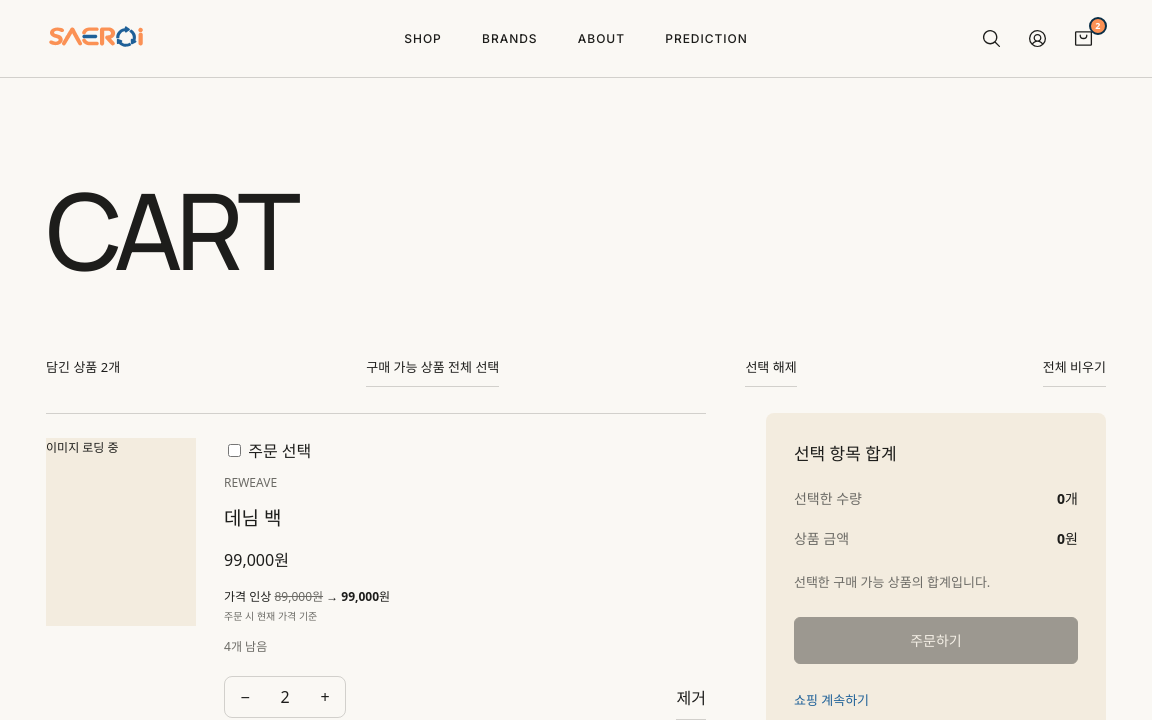
consumer cart › keeps unavailable DISCONTINUED items and trusts server totals (3, 판매 종료)
The image size is (1152, 720).
Click the checkbox named "데님 백 주문 선택": (235, 451) [228,444,241,458]
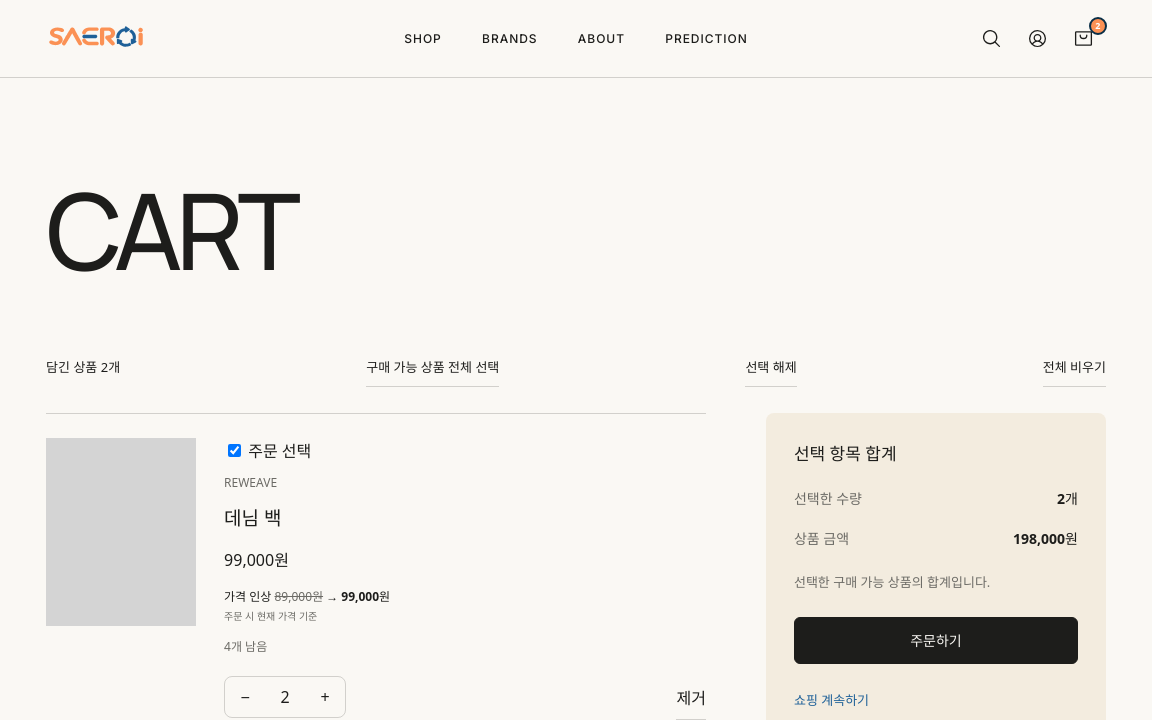
Expected: the text "선택한 구매 가능 상품의 합계입니다." is shown, [794,572,990,590]
Expected: the text "198,000원" is shown, [1013,527,1078,551]
